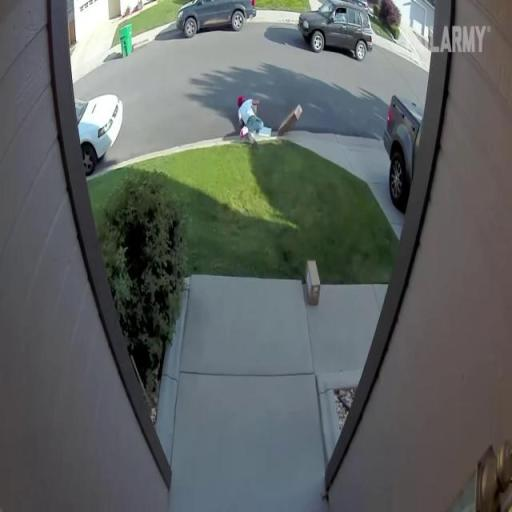Fall: (237, 96, 269, 142)
